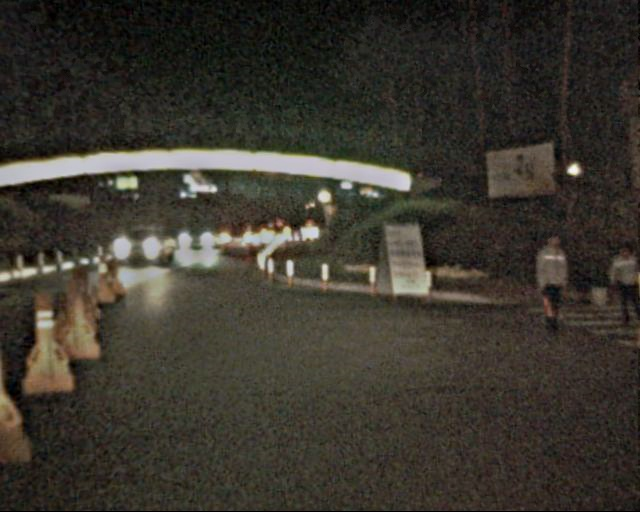person: (527, 232, 575, 336), (601, 245, 640, 325)
